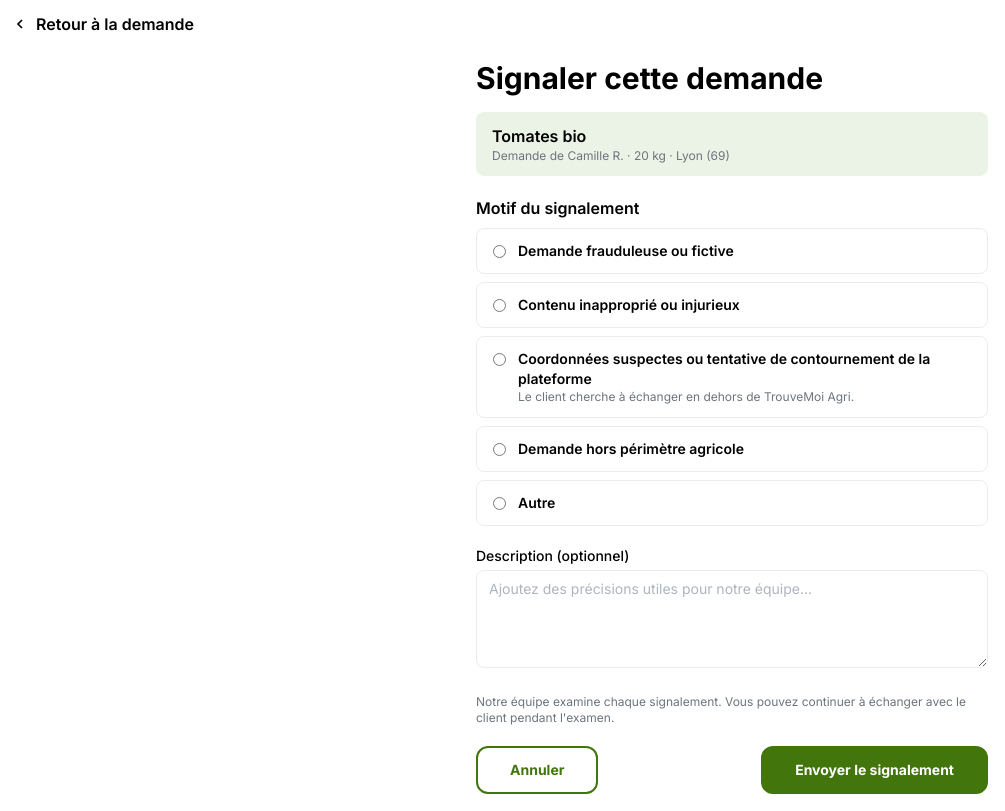
Test: ReportComponent › envoie le motif choisi et la description, puis confirme
Click the 3rd radio button.
click(500, 360)  # box [493,353,506,366]
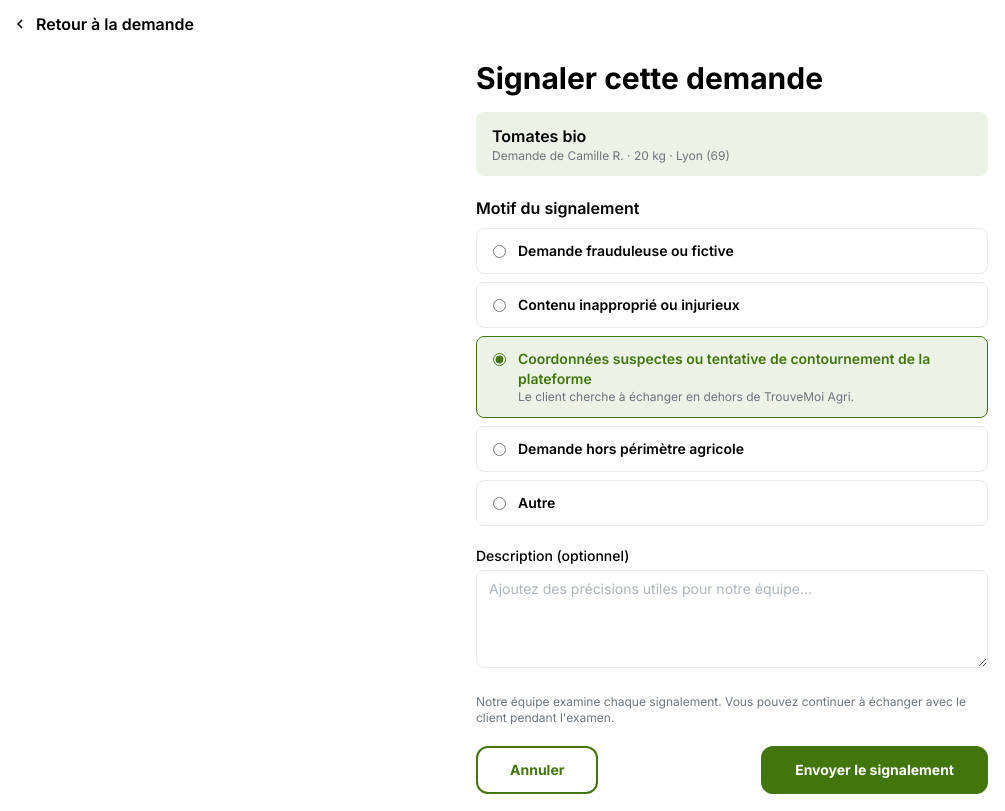
Type "  Il me demande mon numéro  " into the text box with id "message".
click(732, 619); type("  Il me demande mon numéro  ")  # box [476,570,988,668]
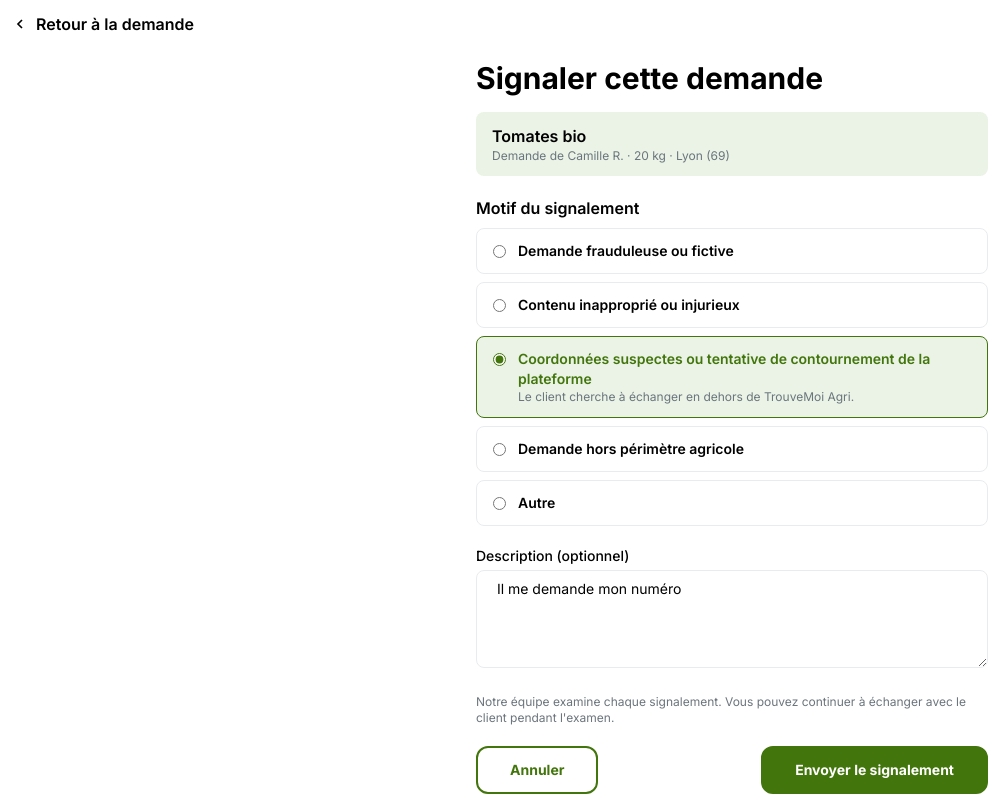
Submit the form, box [476,196,988,794]
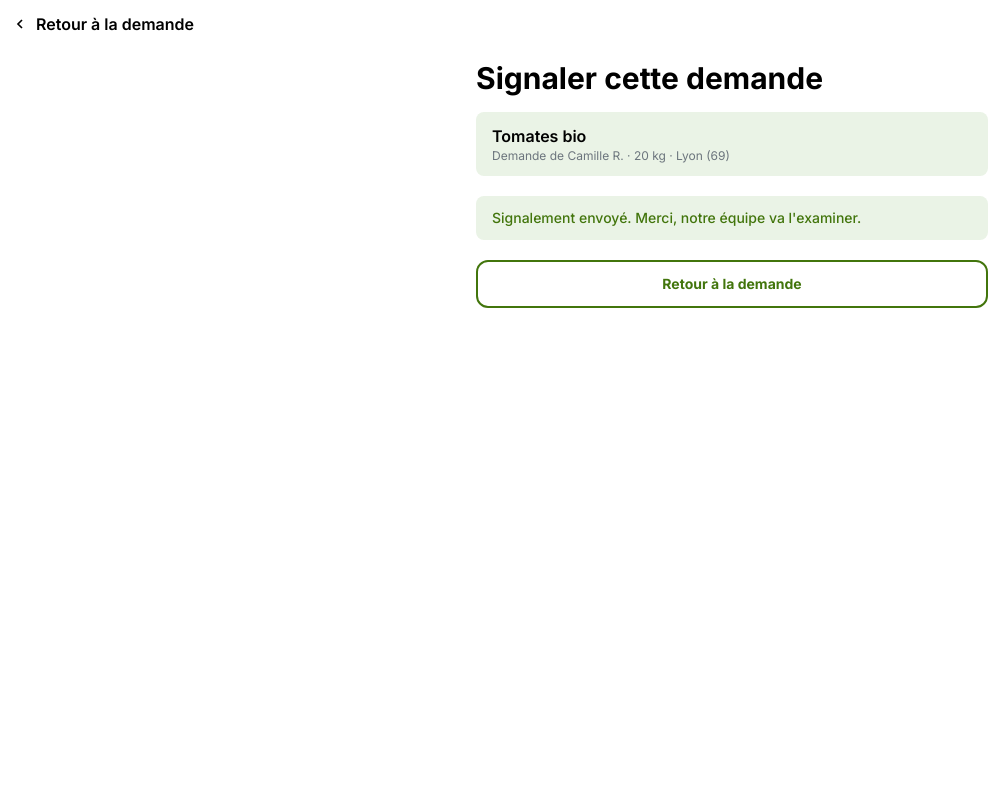
Expected: the link to "/producer/requests/abc" is shown, [12,14,194,34]
Result: the message "Signalement envoyé. Merci, notre équipe va l'examiner." is shown at [476,196,988,240]
Result: the form is gone
